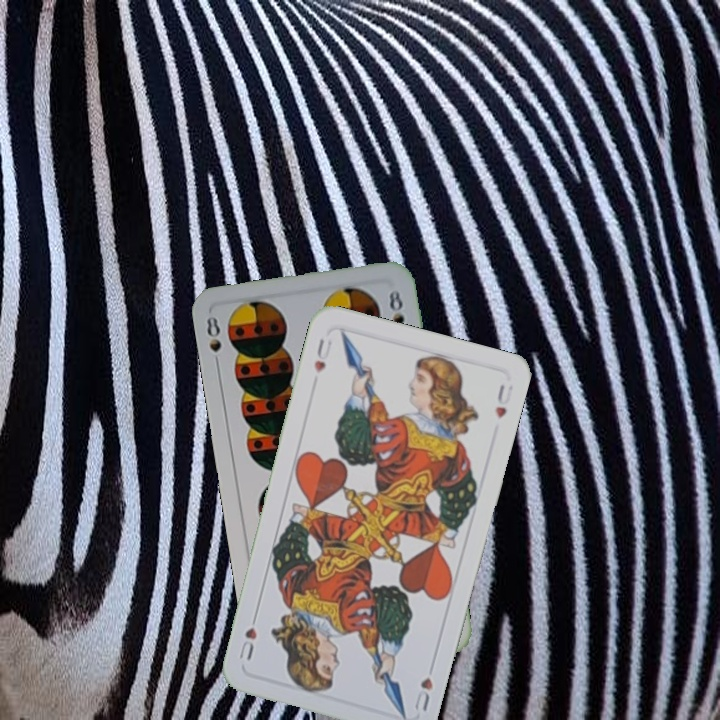HU: (410, 673, 436, 714), (310, 334, 335, 375)
S8: (202, 312, 224, 371)
